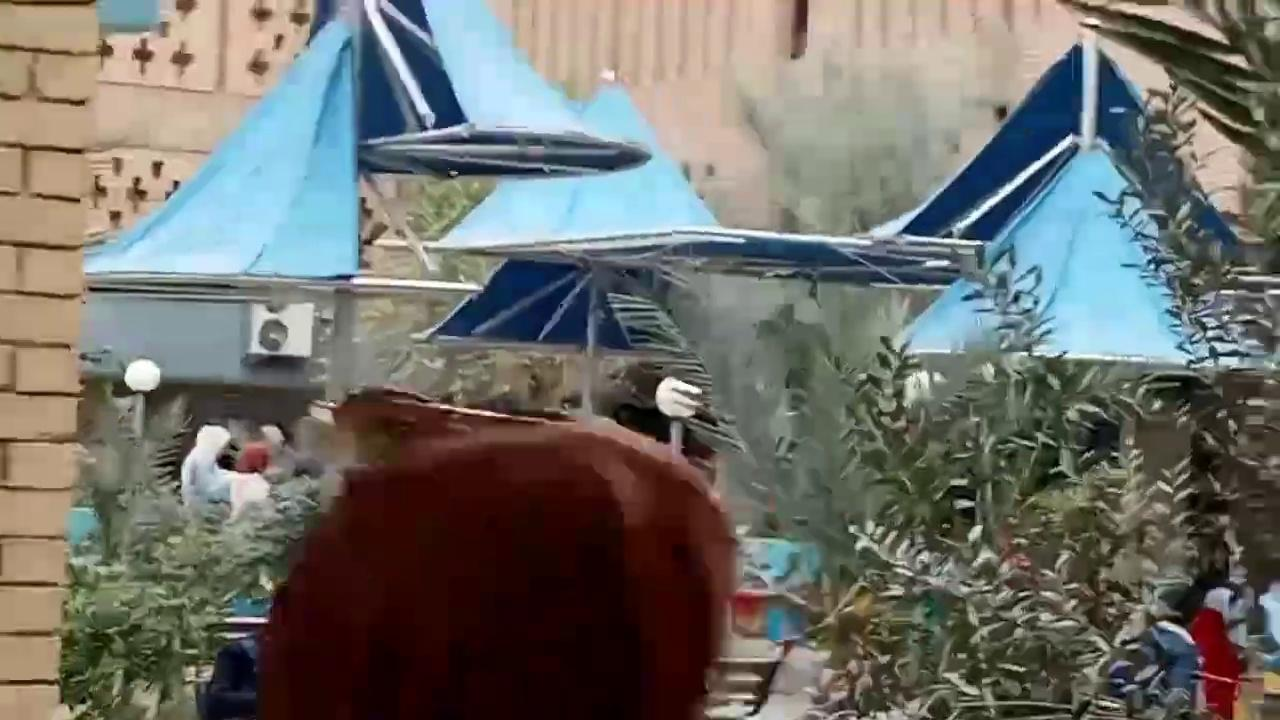tree: (799, 331, 1244, 718), (1057, 0, 1278, 605), (55, 368, 326, 718)
